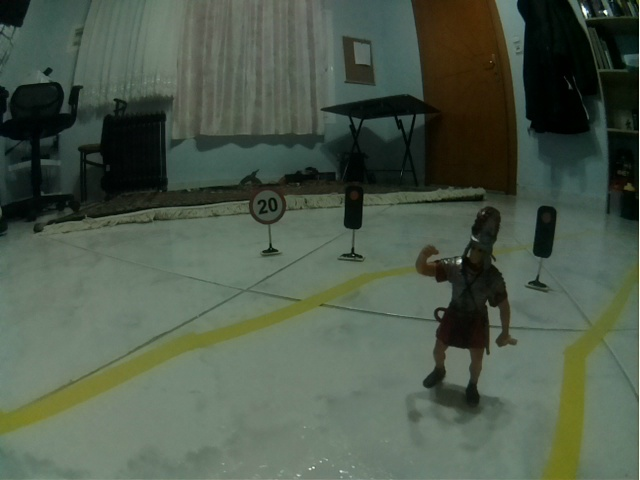Person: (415, 203, 518, 407)
Red Traffic Light: (533, 203, 557, 259), (344, 185, 364, 230)
Speed Limit 20: (248, 187, 287, 225)
